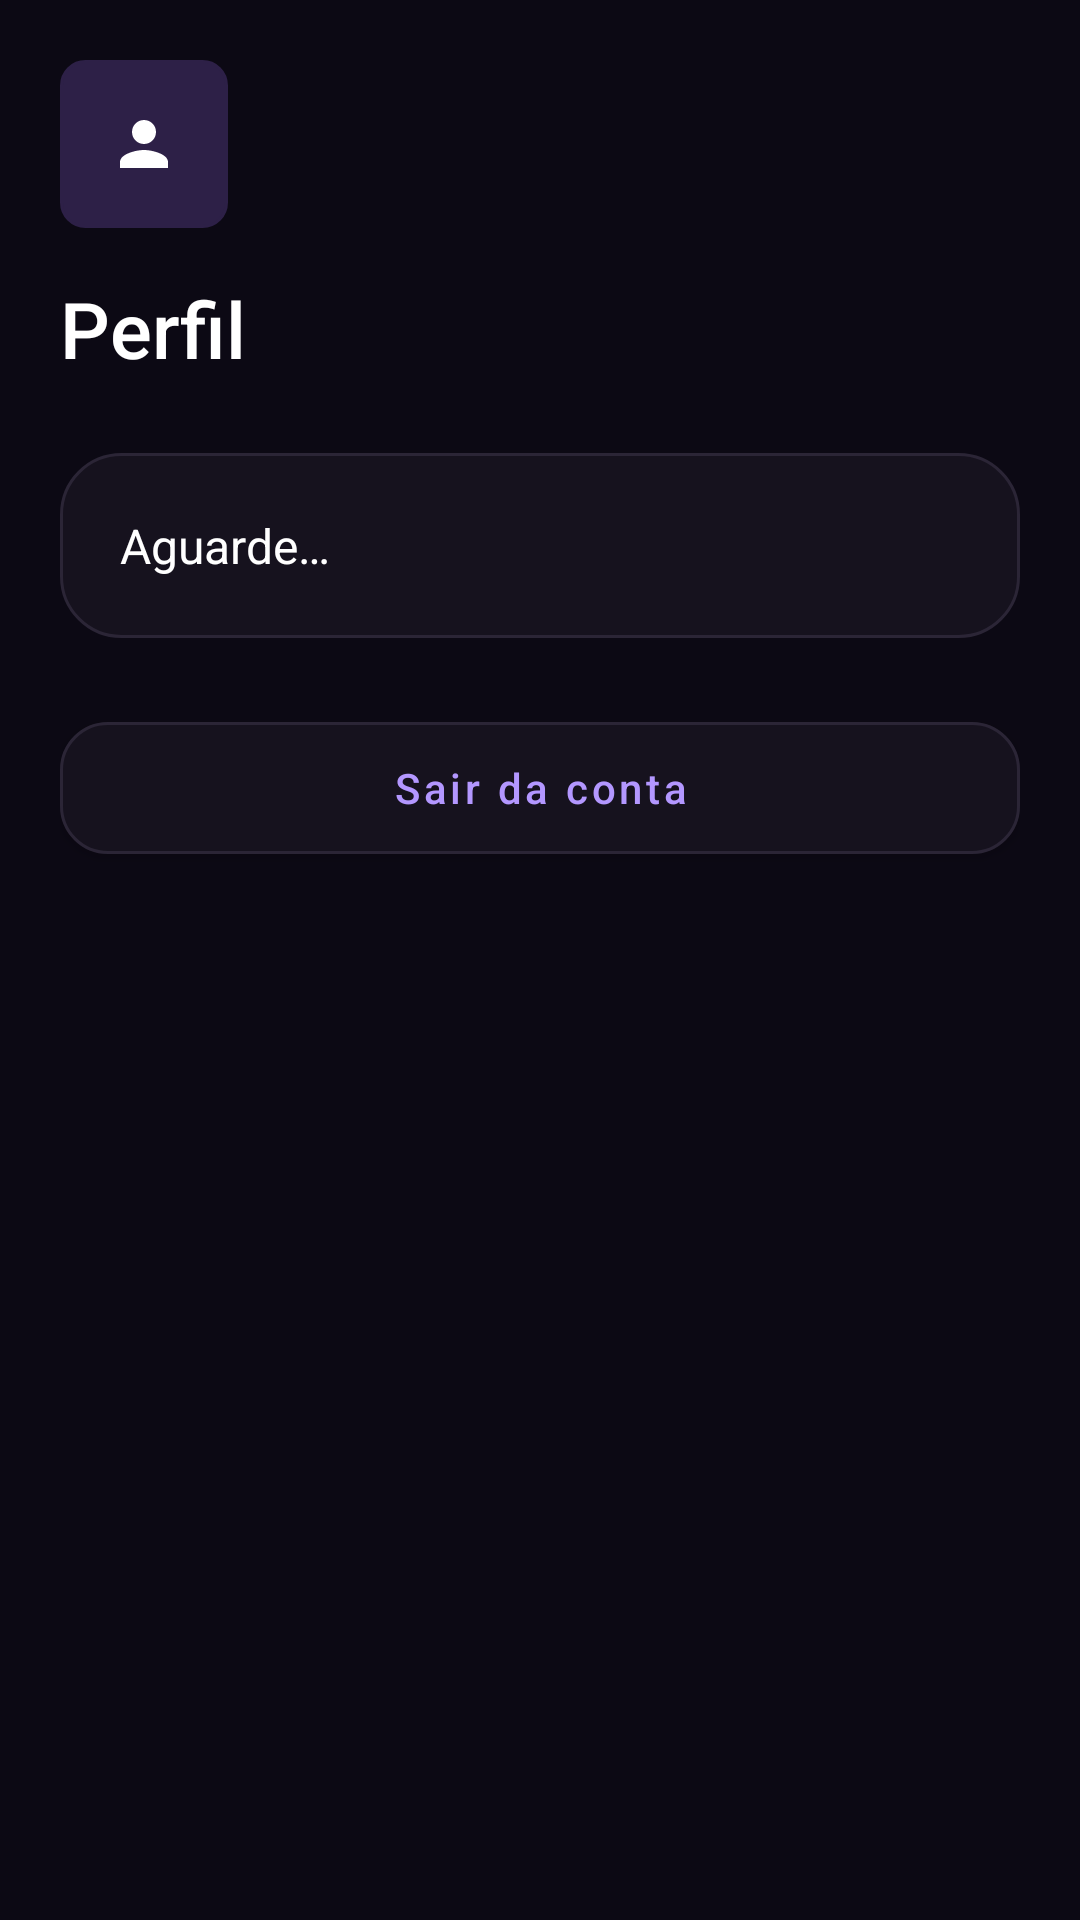

Locate icon controls on the screen. Image size 1080*1920, boxes as (x1, y1, x2, y2).
person: (60, 60, 228, 228)
